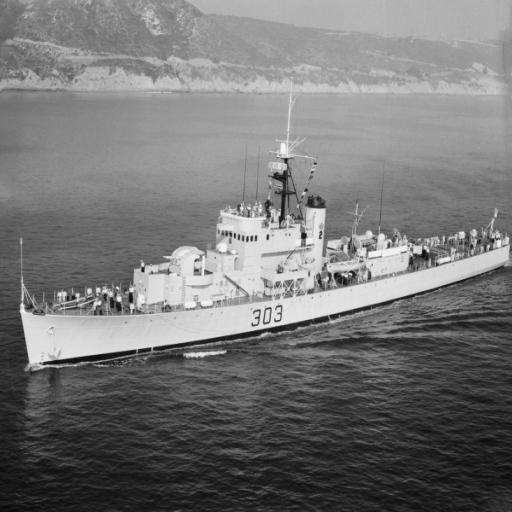Fragata: (16, 104, 512, 378)
